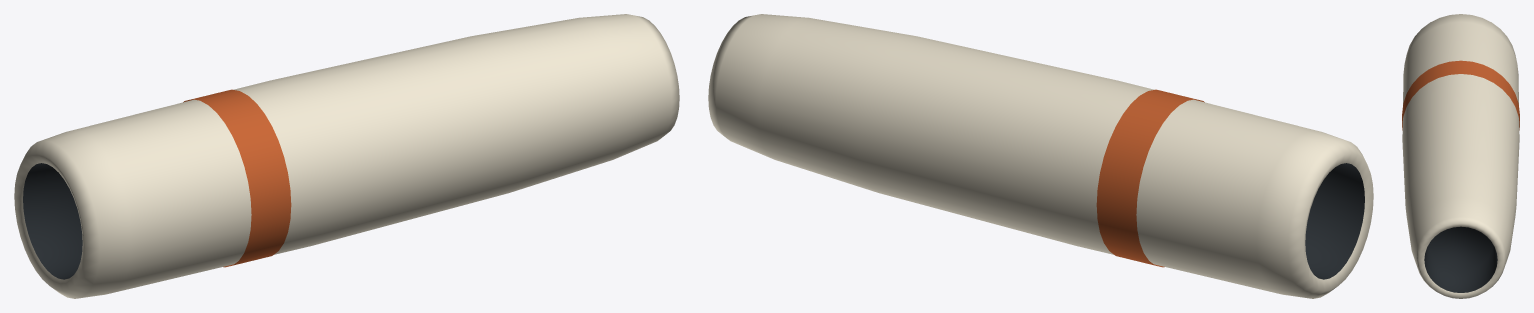
File: kestrel_nacelle.glb
3 views of the same model, side by side, from view 1: azimuth 30°, elevation 25°; view 2: azimuth 150°, elevation 25°; view 3: azimuth 270°, elevation 25° (orthographic). The views are drawn at different scales.
Visible parts, largest first — view 1: nacelle, oxide_band, dark_intake; view 2: nacelle, oxide_band, dark_intake; view 3: nacelle, dark_nozzle, oxide_band.
Part boxes in pixels (x1,y1,x2,y2): nacelle: [14, 14, 679, 298]; oxide_band: [183, 89, 291, 267]; dark_intake: [23, 163, 82, 279]; nacelle: [708, 14, 1373, 298]; oxide_band: [1096, 89, 1204, 267]; dark_intake: [1305, 163, 1364, 279]; nacelle: [1402, 14, 1519, 298]; dark_nozzle: [1424, 226, 1497, 292]; oxide_band: [1402, 60, 1519, 130].
Bounding box in the file's own units: 9.05 × 2.25 × 2.25.
